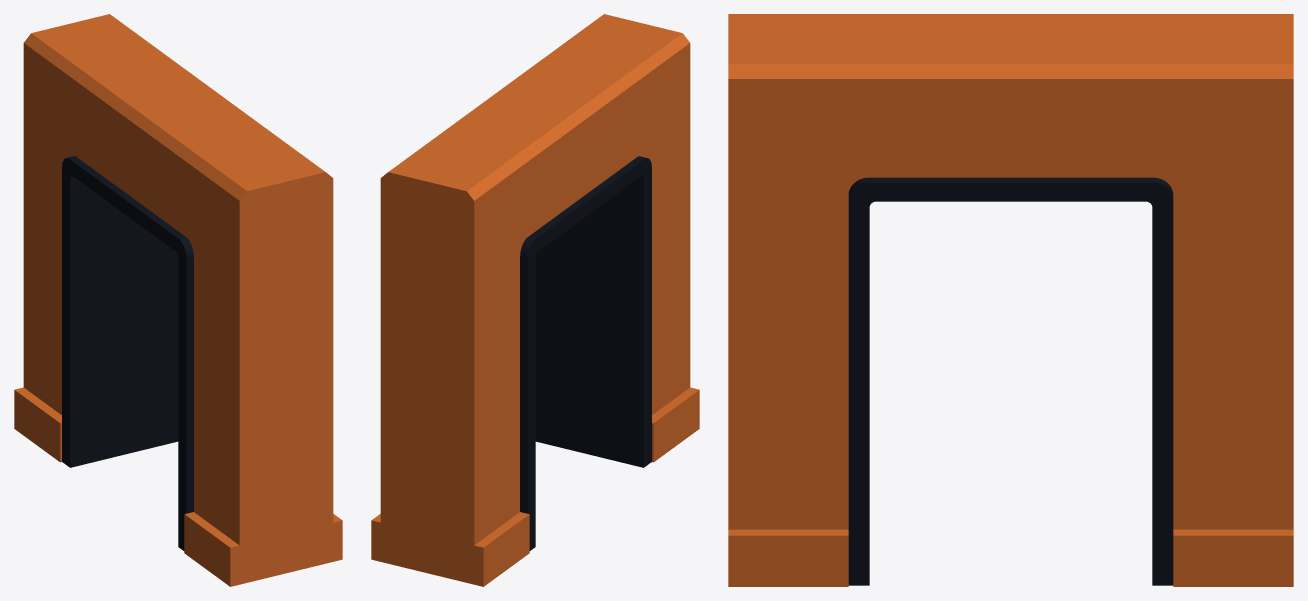
The model's file is Wall with door.fbx.
3 views of the same model, side by side, from view 1: azimuth 30°, elevation 25°; view 2: azimuth 150°, elevation 25°; view 3: azimuth 270°, elevation 25° (orthographic). The views are drawn at different scales.
Visible parts, largest first — view 1: Wall with door, Door frame; view 2: Wall with door, Door frame; view 3: Wall with door, Door frame.
Boxes of the visible parts, x1,y1,x2,y2 form: Wall with door: [14, 14, 342, 586]; Door frame: [62, 156, 193, 550]; Wall with door: [371, 14, 699, 586]; Door frame: [520, 156, 651, 550]; Wall with door: [728, 14, 1293, 586]; Door frame: [848, 177, 1173, 585].
Size of the model in its own units: 60 by 200 by 200.
